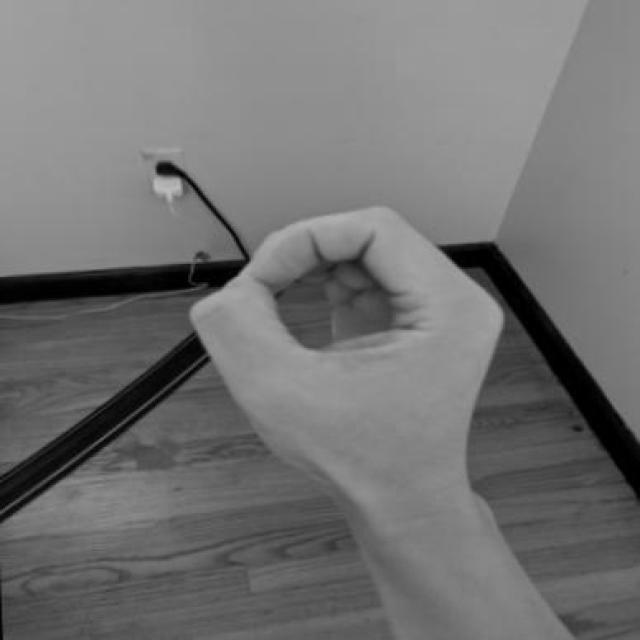O: (177, 194, 519, 509)
